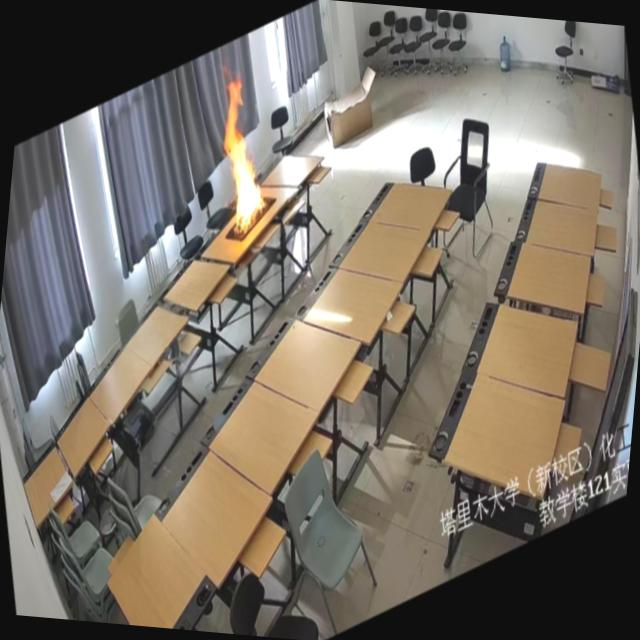fire: (189, 41, 300, 258)
